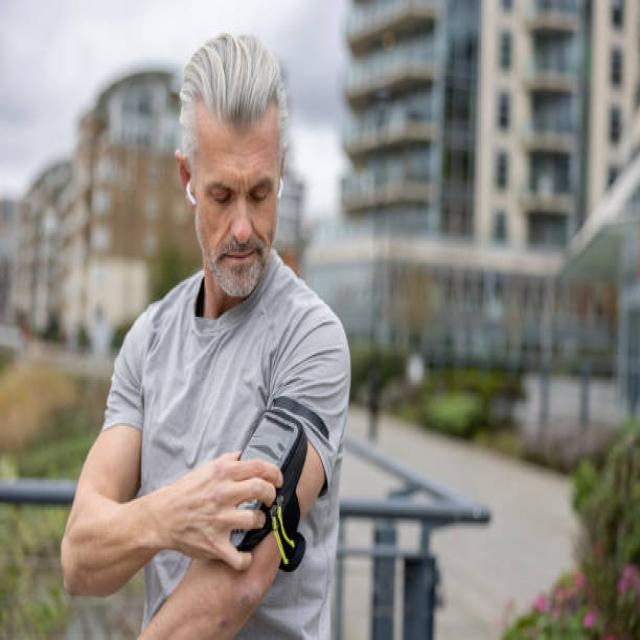airpods: (186, 176, 198, 207), (278, 174, 284, 200)
